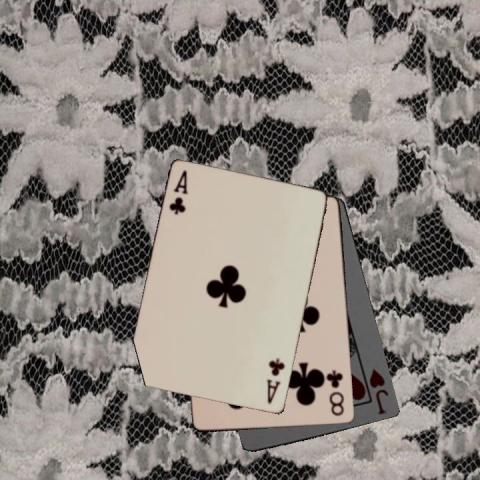8c: (326, 368, 346, 418)
Ac: (263, 355, 287, 406), (166, 167, 189, 217)
Jh: (367, 364, 390, 417)
